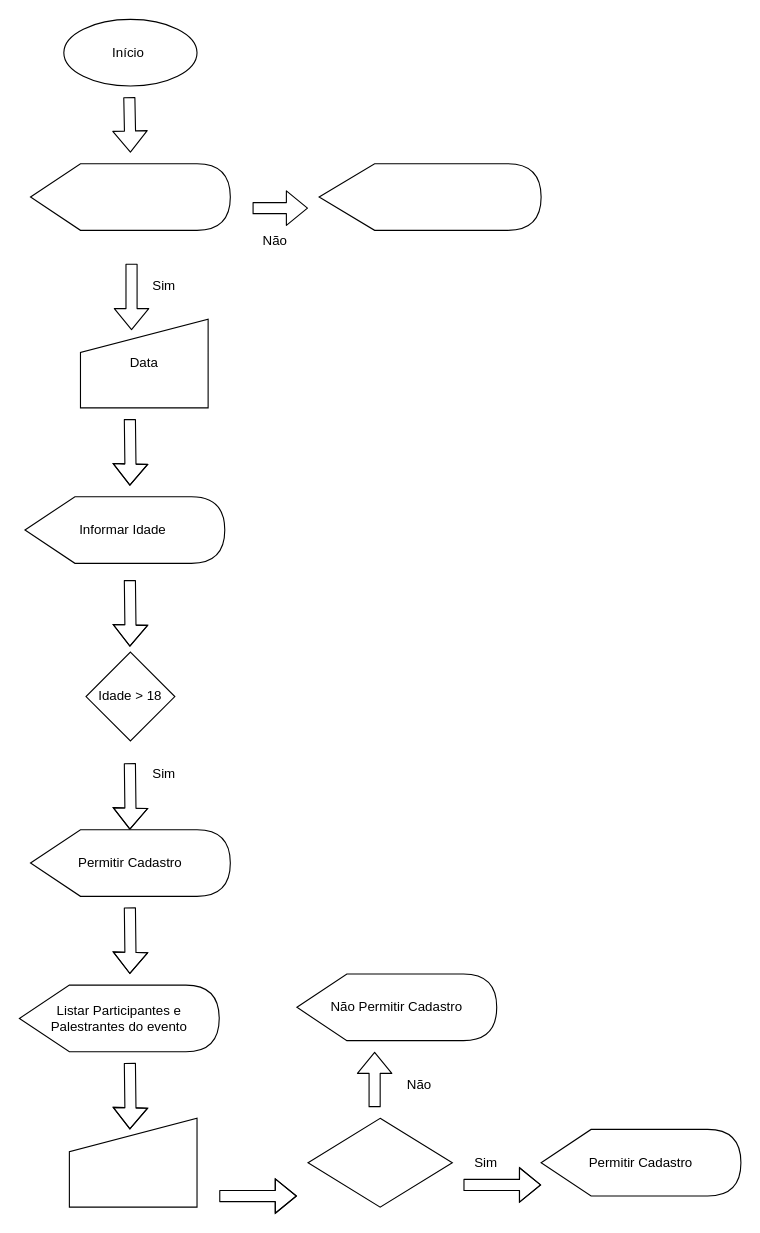
The diagram is 760 pixels wide and 1233 high, and some of its shapes have lost their labels. The shapes that lost their labels are listed below. From the top down, each one's centre as x and y in pixels, then its label:
At (129,196): "Informar a data do evento".
At (429,196): "Não será permitido por idade invalida".
At (132,1162): "Participantes".
At (379,1162): "Participantes <100".
